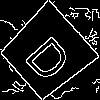D: (23, 27, 81, 85)
